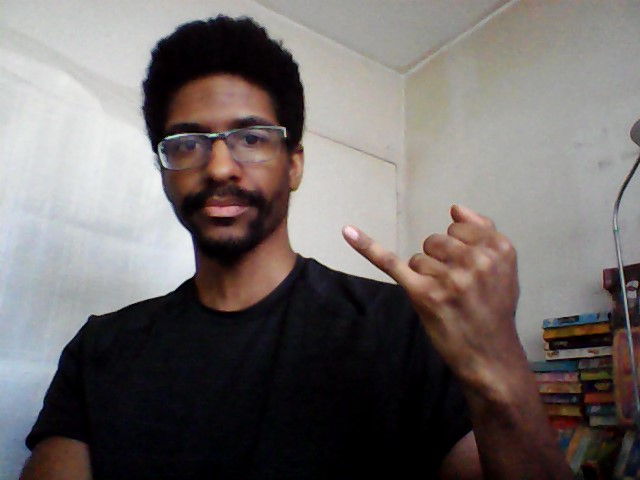j: (337, 201, 534, 384)
